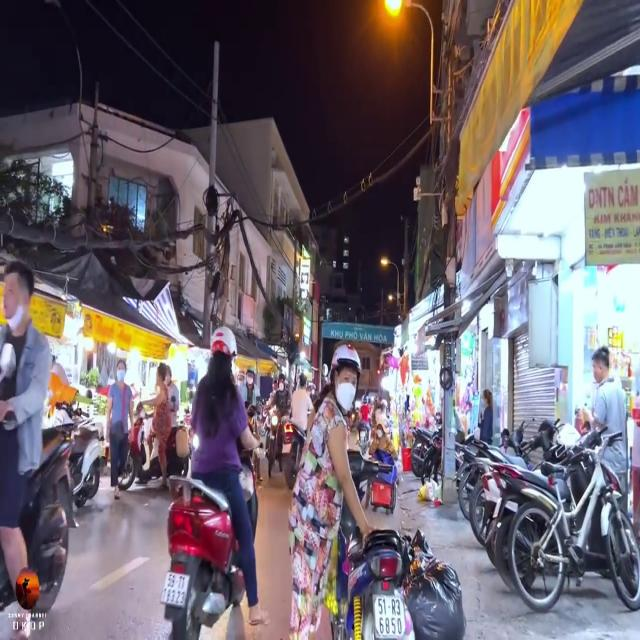bien_trang: (371, 584, 410, 640), (160, 569, 194, 609)
